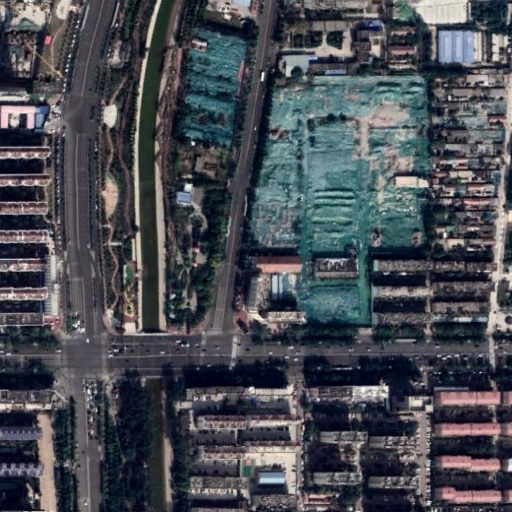cw: (254, 75, 432, 334), (178, 28, 246, 143)
